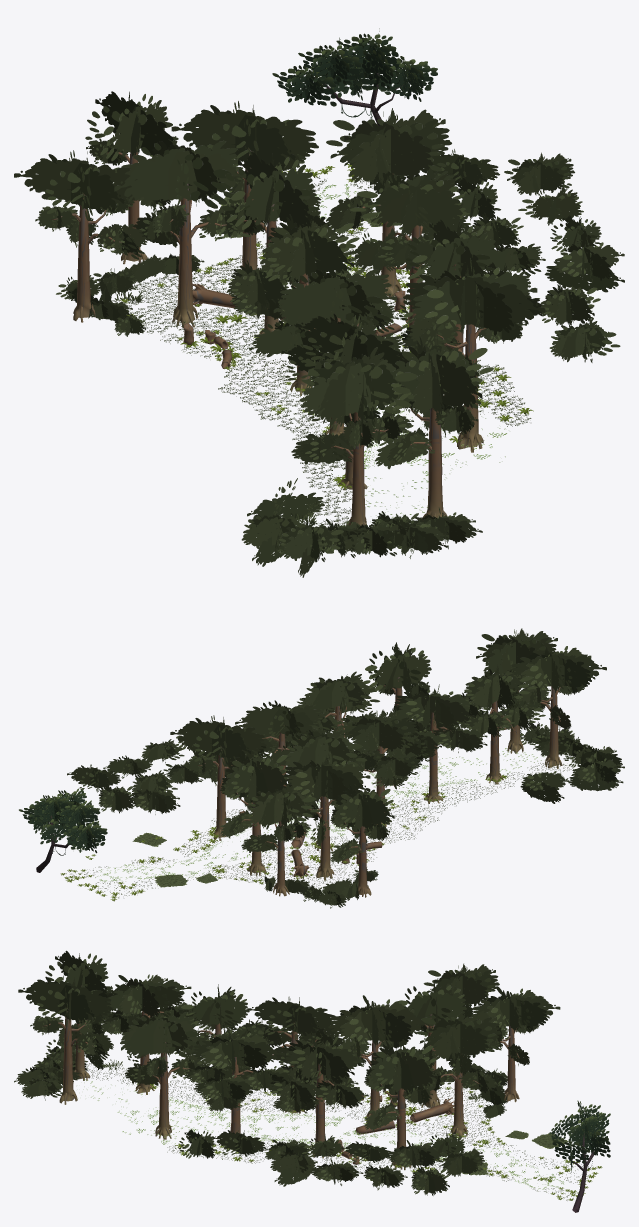
File: Pantano01.fbx
3 views of the same model, one above another, from view 1: azimuth 30°, elevation 25°; view 2: azimuth 150°, elevation 25°; view 3: azimuth 270°, elevation 25° (orthographic). The views are drawn at different scales.
Parts seen in each view (by area): view 1: Pantano01; view 2: Pantano01; view 3: Pantano01.
Boxes of the visible parts, x1,y1,x2,y2 form: Pantano01: (14, 28, 624, 577); Pantano01: (19, 628, 624, 908); Pantano01: (14, 950, 610, 1212).
Size of the model in its own units: 195 by 60.78 by 262.
